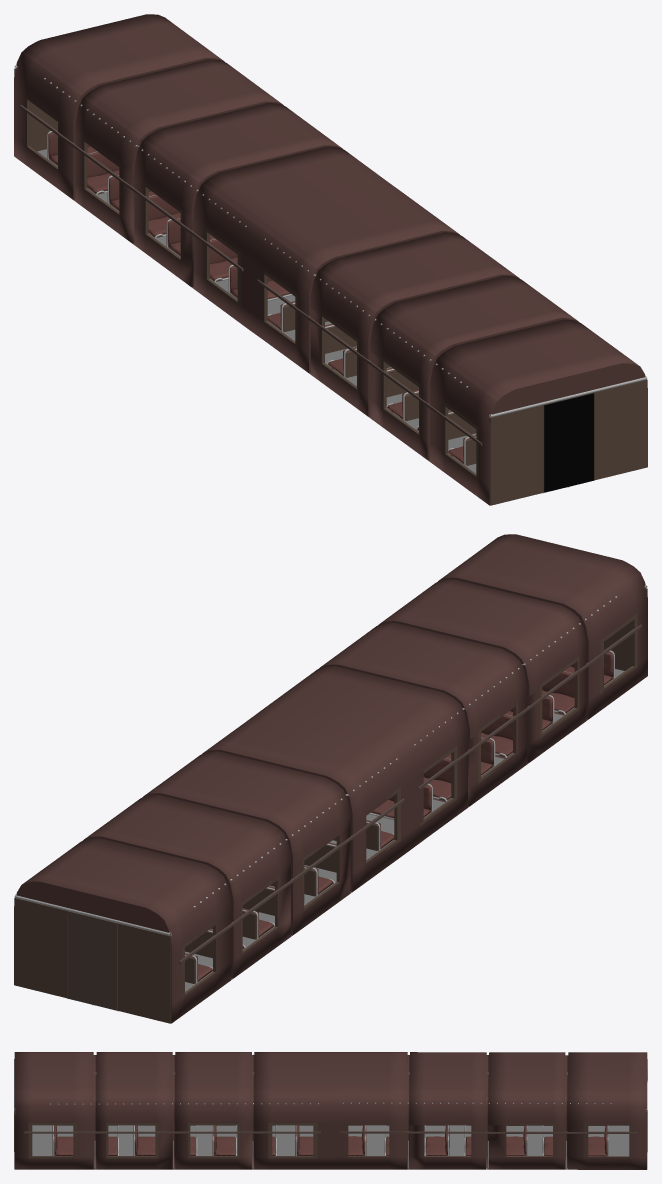
File: Train.fbx
3 renders of one model, top to bottom at view 1: azimuth 30°, elevation 25°; view 2: azimuth 150°, elevation 25°; view 3: azimuth 270°, elevation 25°, orthographic. The views are drawn at different scales.
Visible parts, largest first — view 1: Train shape.001, frameright, frameleft, door, Window rims, Window rims.001, Windowhing2.001, Windowthing, frameleft.001; view 2: Train shape.001, frameright.001, frameleft.001, door.001, Window rims, Window rims.001, Windowhing2.001, Windowthing, frameright; view 3: Train shape.001, Window rims, Window rims.001, Windowhing2, Windowthing.001, Chair base.046, Chair base.074, Chair base.042, Chair base.070, Chair base.082, Chair base.054, Chair base.050 (+2 smaller).
Part boxes in pixels (x1,y1,x2,y2): Train shape.001: [14, 14, 647, 505]; frameright: [489, 405, 543, 505]; frameleft: [594, 379, 647, 480]; door: [544, 393, 593, 492]; Window rims: [261, 270, 478, 480]; Window rims.001: [24, 95, 241, 306]; Windowhing2.001: [19, 105, 243, 271]; Windowthing: [257, 279, 482, 445]; frameleft.001: [14, 68, 57, 151]; Train shape.001: [14, 534, 647, 1023]; frameright.001: [14, 898, 67, 998]; frameleft.001: [118, 923, 171, 1023]; door.001: [67, 911, 117, 1010]; Window rims: [420, 614, 637, 826]; Window rims.001: [182, 787, 400, 999]; Windowhing2.001: [179, 798, 404, 963]; Windowthing: [418, 624, 641, 790]; frameright: [604, 588, 647, 670]; Train shape.001: [14, 1052, 647, 1169]; Window rims: [28, 1123, 317, 1158]; Window rims.001: [348, 1122, 632, 1158]; Windowhing2: [24, 1131, 320, 1133]; Windowthing.001: [340, 1131, 636, 1133]; Chair base.046: [214, 1136, 235, 1155]; Chair base.074: [426, 1136, 446, 1155]; Chair base.042: [136, 1136, 155, 1155]; Chair base.070: [506, 1136, 525, 1155]; Chair base.082: [588, 1136, 606, 1156]; Chair base.054: [55, 1136, 73, 1155]; Chair base.050: [297, 1136, 313, 1155].
Bounding box in the file's own units: 21291 × 13857 × 108248.
